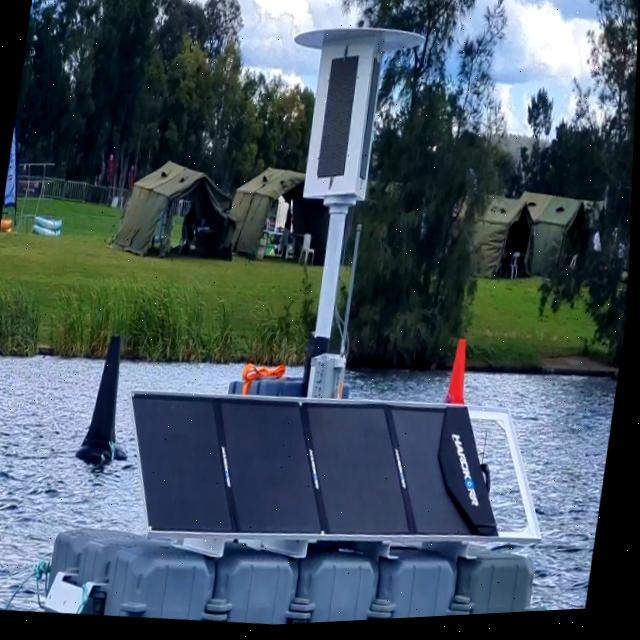led: (307, 45, 372, 195)
